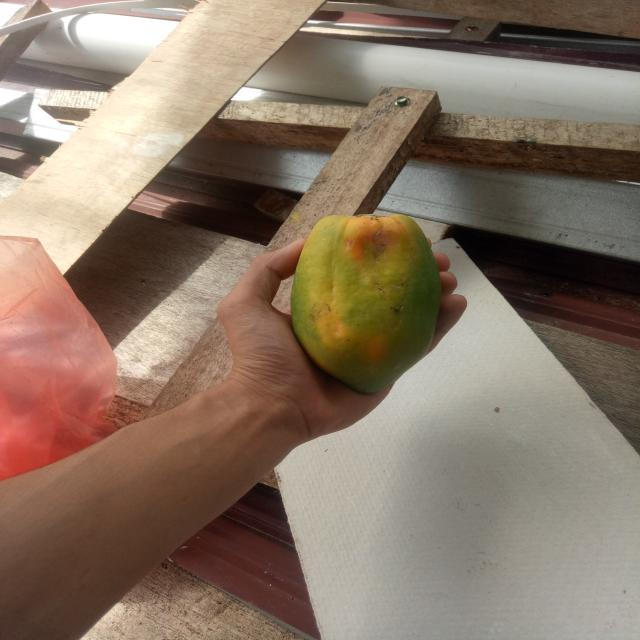Pepaya rippen: (295, 195, 436, 397)
